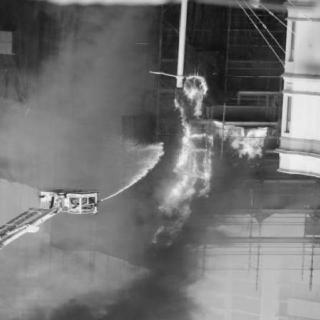Fire: (142, 73, 274, 246)
Smoke: (67, 251, 213, 320)
